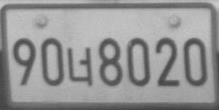0: (182, 36, 208, 86), (126, 37, 151, 88), (39, 36, 64, 86)
2: (154, 36, 180, 87)
8: (97, 37, 123, 87)
9: (12, 37, 36, 85)
너: (66, 46, 92, 86)
